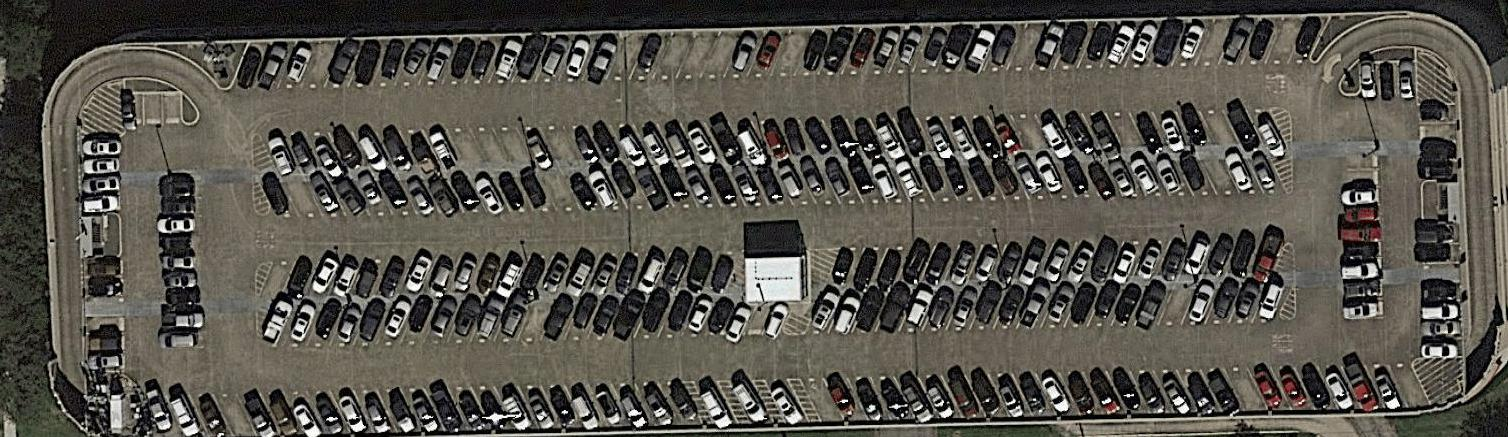parkingspot: (227, 14, 1332, 91), (255, 147, 1290, 220), (256, 105, 1291, 174), (797, 360, 1432, 423), (143, 377, 700, 437), (255, 293, 795, 350), (800, 279, 1294, 337), (823, 235, 1289, 288), (258, 248, 741, 299), (158, 175, 205, 350), (1339, 152, 1384, 321), (1414, 102, 1460, 182), (80, 134, 123, 215), (1418, 284, 1465, 358), (691, 377, 739, 430), (84, 314, 126, 374), (761, 376, 811, 426), (124, 90, 183, 132), (1358, 60, 1417, 101), (728, 377, 774, 428), (1413, 221, 1462, 265), (83, 255, 124, 298)
